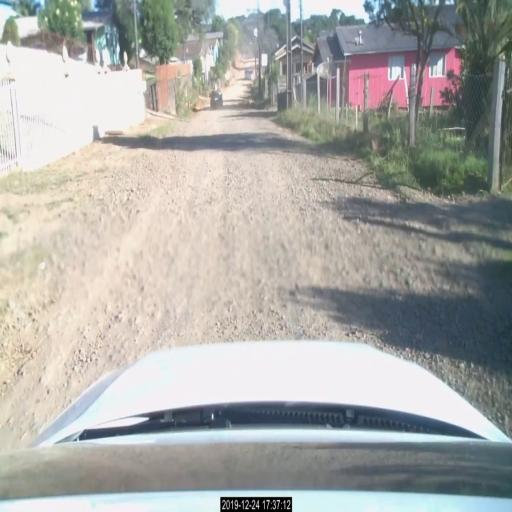Pothole: (210, 149, 317, 209)
